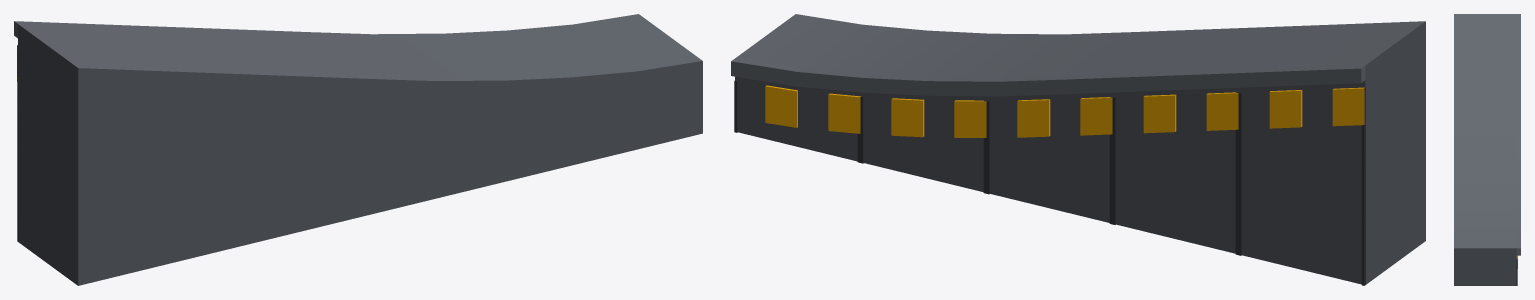
3 renders of one model, left to right at view 1: azimuth 30°, elevation 25°; view 2: azimuth 150°, elevation 25°; view 3: azimuth 270°, elevation 25°, orthographic. The views are drawn at different scales.
Parts seen in each view (by area): view 1: d1wf; view 2: d1wf; view 3: d1wf.
Boxes of the visible parts, box(x1,y1,x2,y2) form: d1wf: box(14, 14, 702, 285); d1wf: box(731, 14, 1425, 285); d1wf: box(1454, 14, 1520, 285).
Bounding box in the file's own units: 9 × 3 × 1.6.
